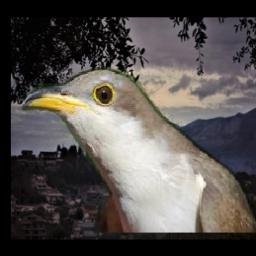Cuckoo: (23, 68, 256, 233)
